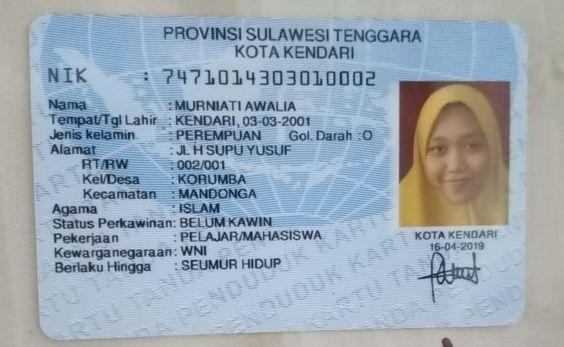ID-card: (27, 16, 522, 336)
